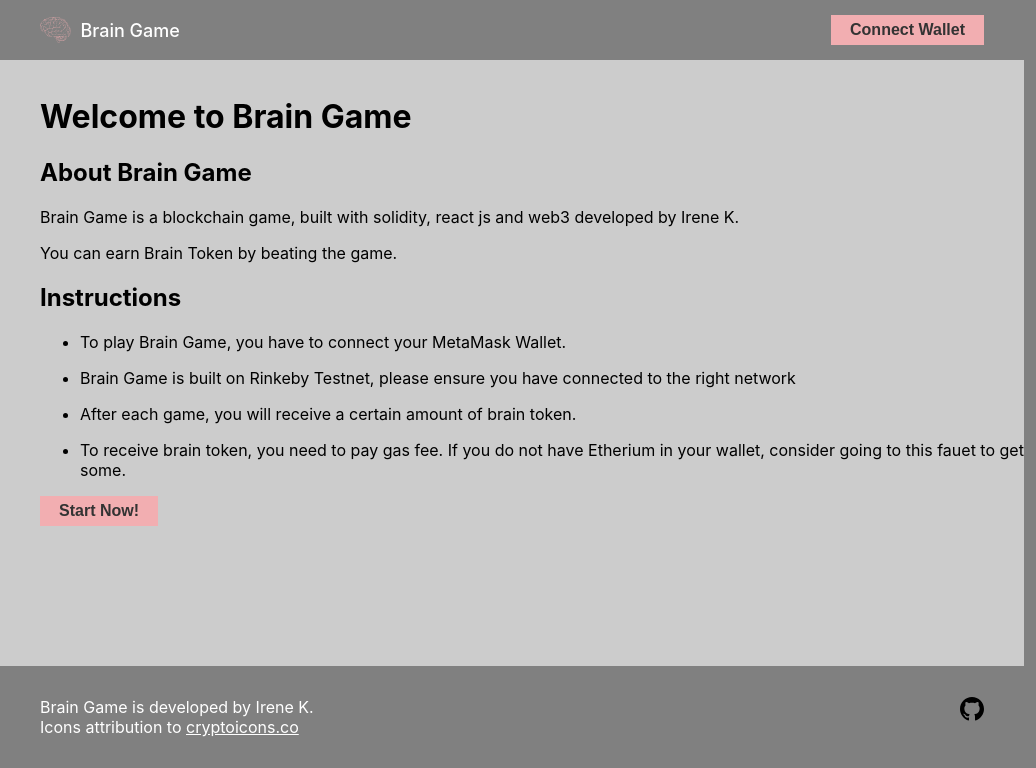
it: Render App - connecting page -  no etherum detected
Click the button with test id "start-button": (99, 511) top-left (40, 496), bottom-right (158, 526)
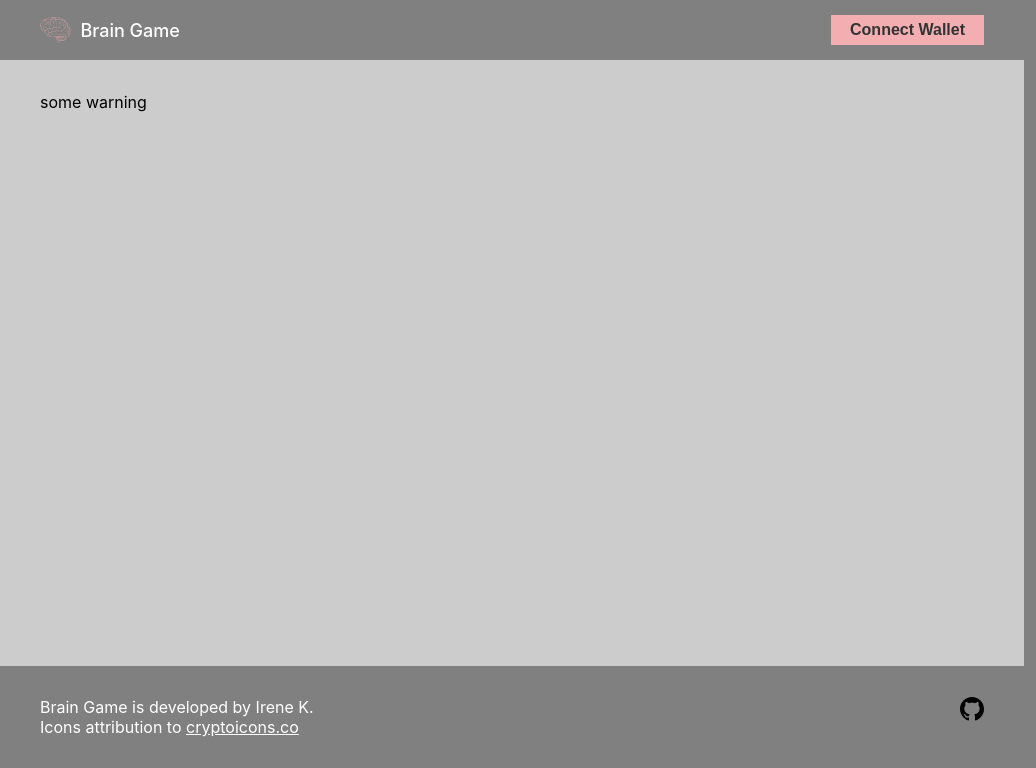
Check: the text with test id "warning-message" reads "some warning", box top-left (40, 92), bottom-right (147, 112)
